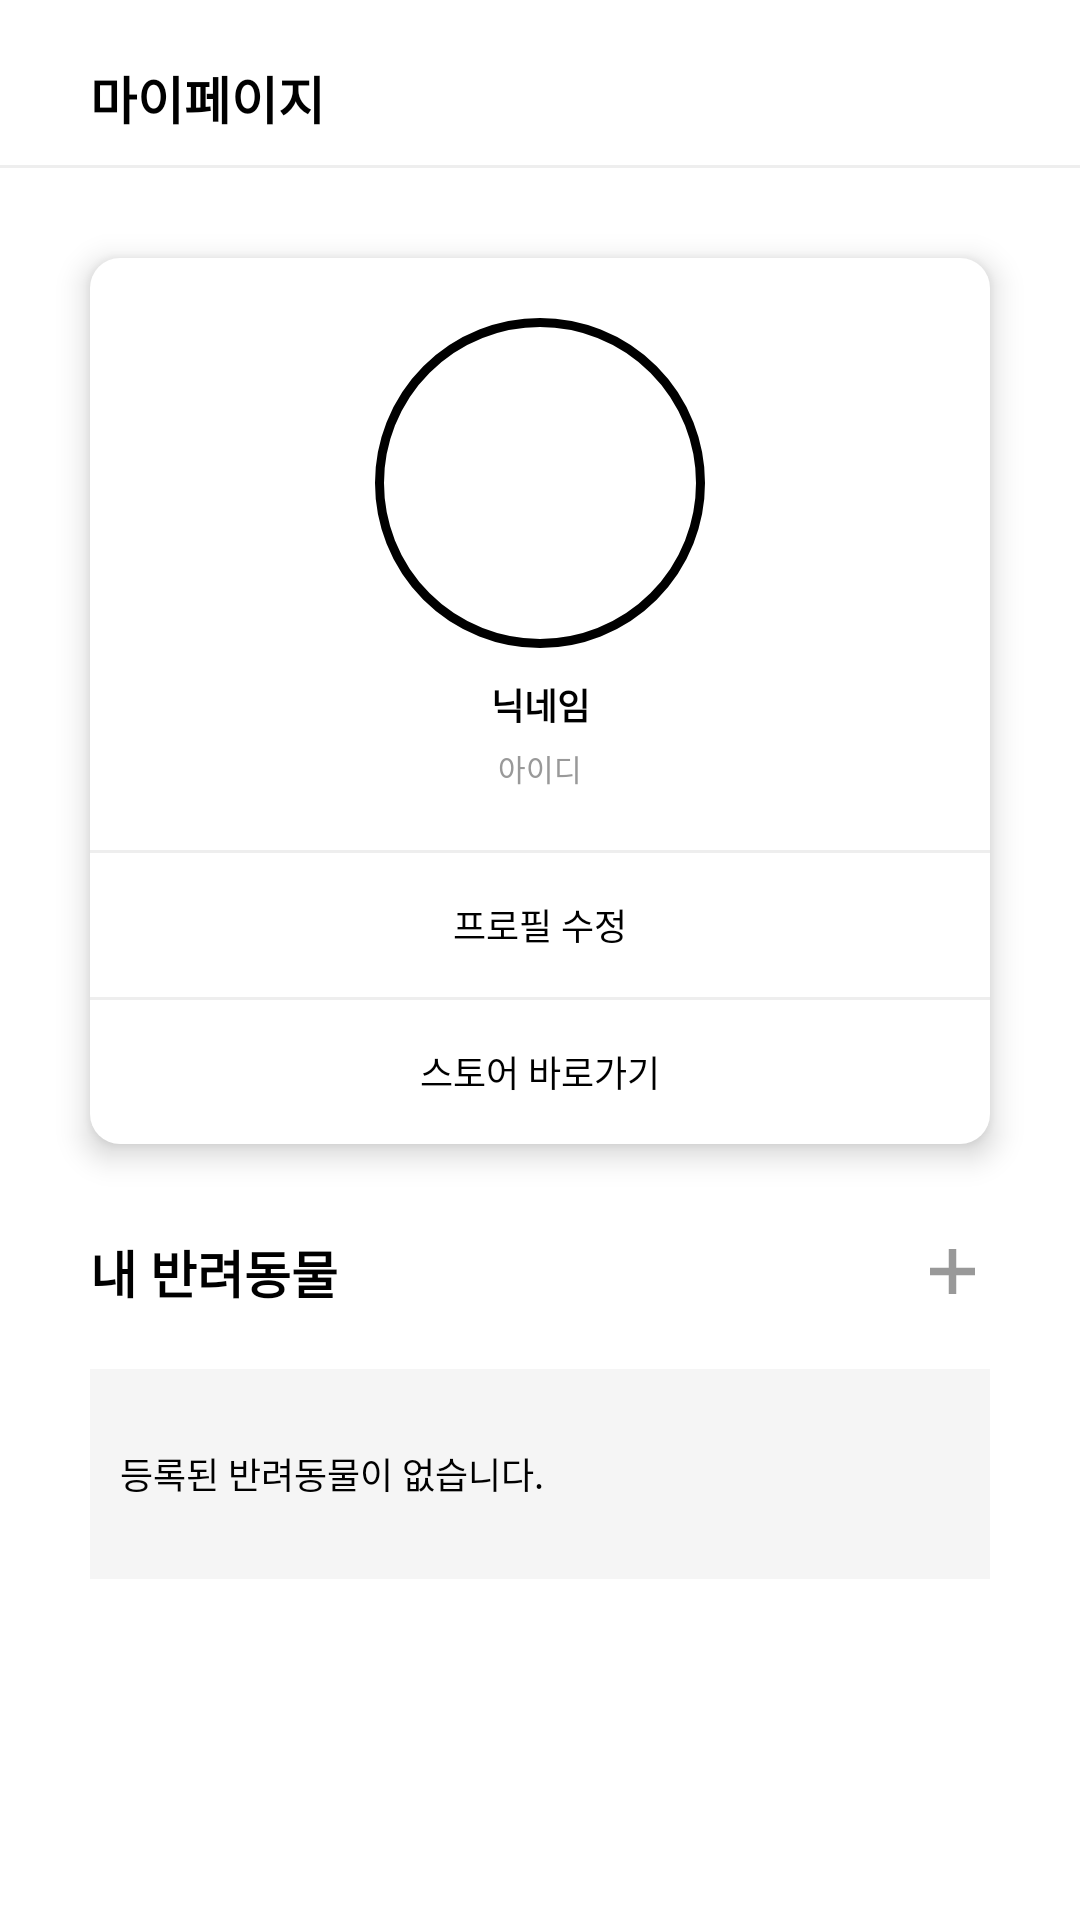

Icons on this 1080×1920 Android screen, each with the point to tap as (x,y):
plusicon: (952,1271)
